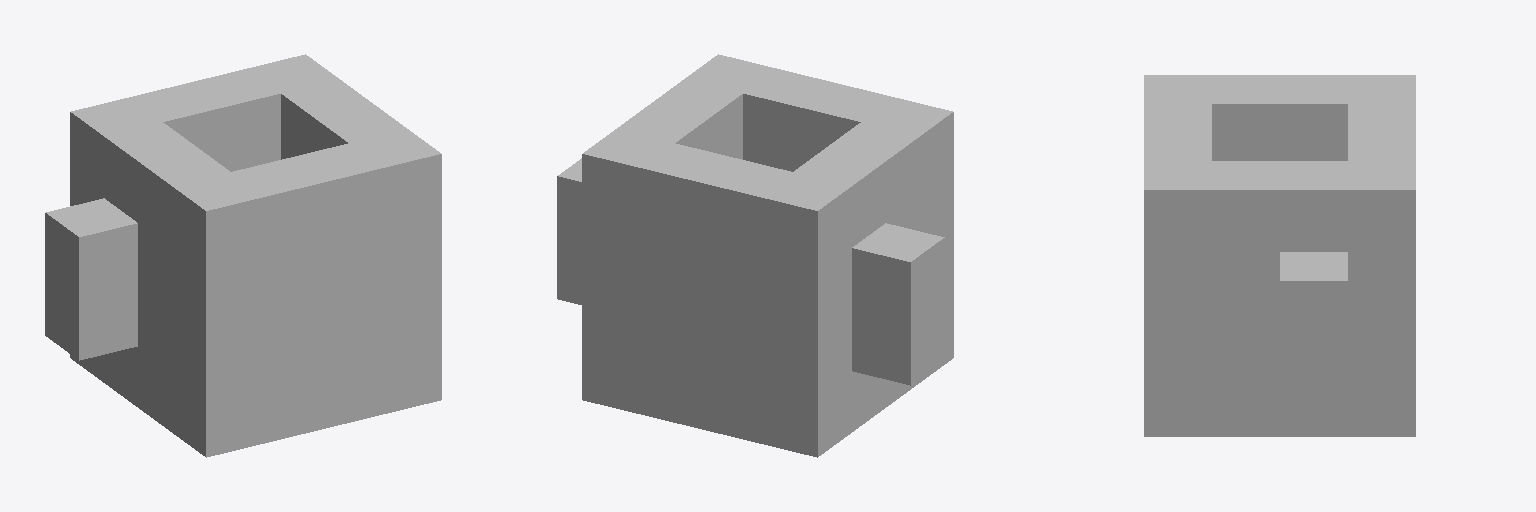
File: Metal Armor 1.obj
3 views of the same model, side by side, from view 1: azimuth 30°, elevation 25°; view 2: azimuth 150°, elevation 25°; view 3: azimuth 270°, elevation 25° (orthographic).
Bounding box in the file's own units: 6 × 4 × 4.